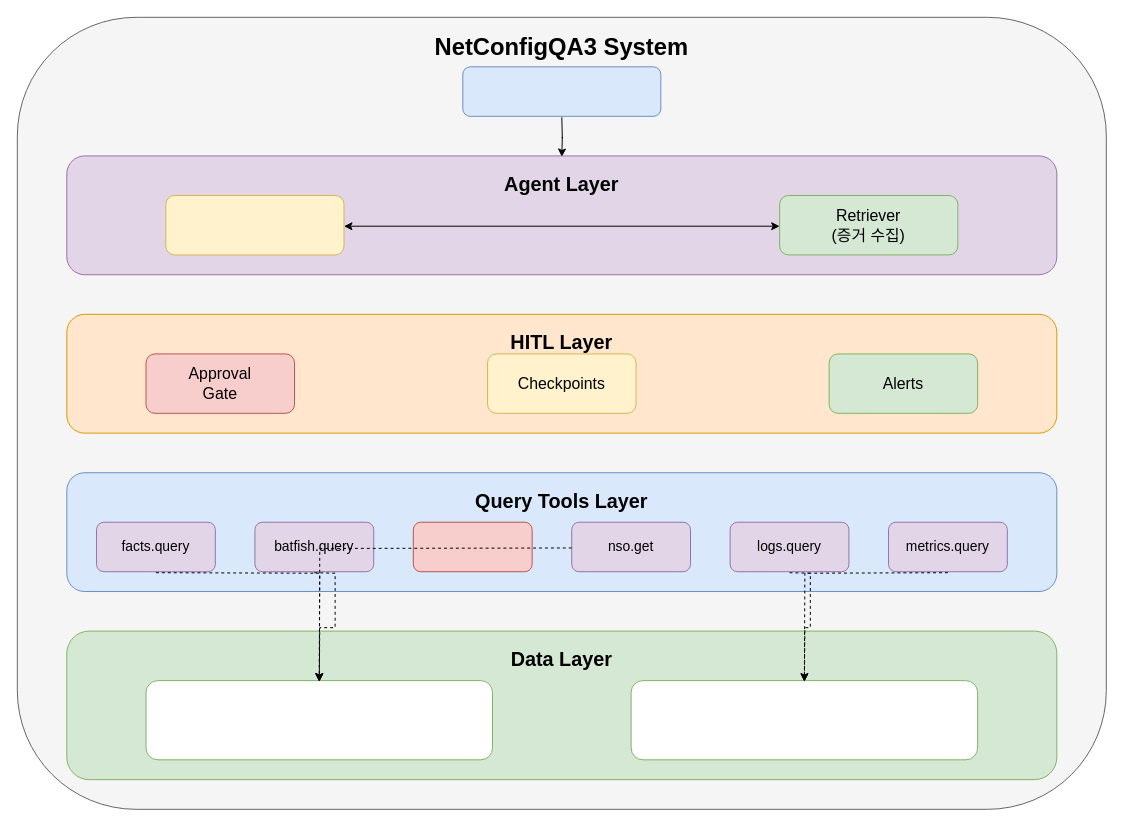
The diagram is 1124 pixels wide and 827 high, and some of its shapes have lost their labels. The shapes that lost their labels are listed below. From the top down, each one's centre as x and y in pixels, then its label:
point (561, 91): 👤 사용자
point (254, 225): Reasoner (추론/판단)
point (472, 546): nso.txn
point (319, 720): Static Facts DB • device • interface • vrf / bgp
point (804, 720): Dynamic Telemetry Store • Log Events • Metric Windows • Flow Summaries
